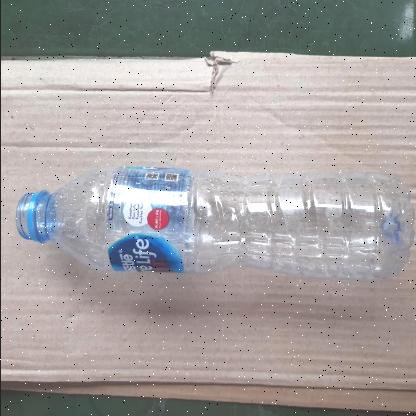Plastic Bottle: (14, 165, 414, 279)
